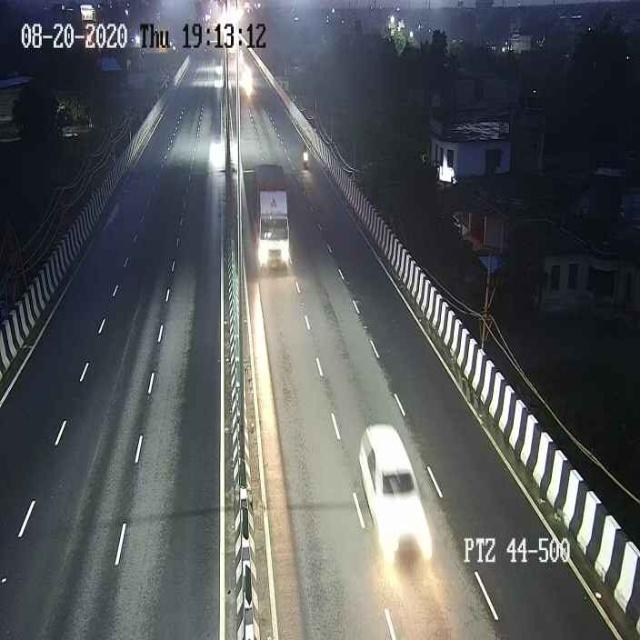car: (358, 418, 429, 555)
